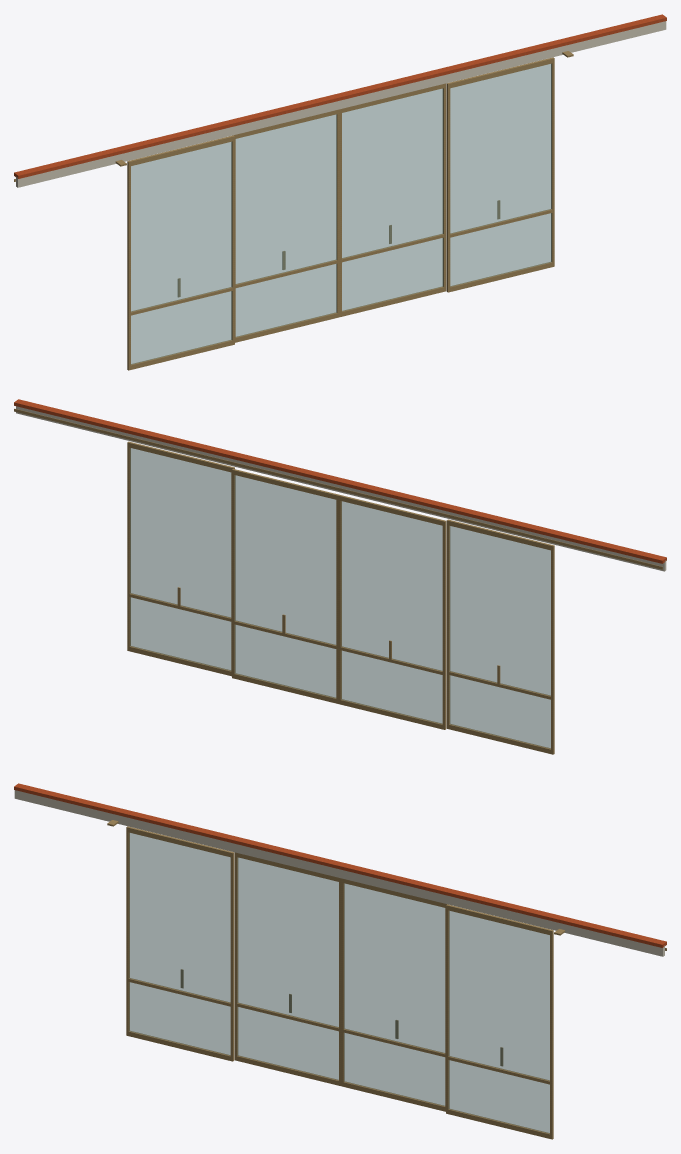
File: maker_foyer_8240mm_r001.glb
3 renders of one model, top to bottom at view 1: azimuth 30°, elevation 25°; view 2: azimuth 150°, elevation 25°; view 3: azimuth 330°, elevation 25°, orthographic.
Parts seen in each view (by area): view 1: Panel_R0_glass, Panel_L1_glass, Panel_R1_glass, Panel_L0_glass, track_back, track_cap, Panel_R0_stile_left, Panel_R1_stile_right, Panel_L0_stile_left, Panel_R0_stile_right, Panel_L0_stile_right, Panel_L1_stile_right (+7 smaller); view 2: Panel_R1_glass, Panel_R0_glass, Panel_L1_glass, Panel_L0_glass, track_cap, track_back, track_brass, Panel_L1_stile_left, Panel_L0_stile_right, Panel_L0_stile_left, Panel_L1_stile_right, Panel_R0_stile_right (+10 smaller); view 3: Panel_L0_glass, Panel_L1_glass, Panel_R1_glass, Panel_R0_glass, track_back, track_cap, Panel_L0_stile_right, Panel_L1_stile_left, Panel_R0_stile_right, Panel_L0_stile_left, Panel_R0_stile_left, Panel_R1_stile_left (+7 smaller).
Boxes of the visible parts, bbox=[...] form: Panel_R0_glass: bbox=[450, 64, 551, 286]; Panel_L1_glass: bbox=[235, 114, 336, 337]; Panel_R1_glass: bbox=[342, 88, 443, 311]; Panel_L0_glass: bbox=[131, 141, 232, 364]; track_back: bbox=[16, 21, 666, 187]; track_cap: bbox=[14, 14, 666, 178]; Panel_R0_stile_left: bbox=[446, 83, 450, 292]; Panel_R1_stile_right: bbox=[442, 83, 446, 291]; Panel_L0_stile_left: bbox=[127, 160, 130, 370]; Panel_R0_stile_right: bbox=[551, 57, 554, 266]; Panel_L0_stile_right: bbox=[231, 135, 234, 344]; Panel_L1_stile_right: bbox=[336, 109, 339, 317]; Panel_R1_glass: bbox=[234, 475, 336, 698]; Panel_R0_glass: bbox=[130, 448, 231, 670]; Panel_L1_glass: bbox=[341, 501, 442, 724]; Panel_L0_glass: bbox=[449, 526, 550, 748]; track_cap: bbox=[14, 399, 666, 563]; track_back: bbox=[16, 406, 666, 571]; track_brass: bbox=[14, 408, 662, 569]; Panel_L1_stile_left: bbox=[442, 520, 446, 729]; Panel_L0_stile_right: bbox=[446, 519, 450, 729]; Panel_L0_stile_left: bbox=[551, 545, 554, 754]; Panel_L1_stile_right: bbox=[338, 495, 341, 704]; Panel_R0_stile_right: bbox=[127, 441, 130, 651]; Panel_L0_glass: bbox=[129, 833, 230, 1055]; Panel_L1_glass: bbox=[237, 857, 338, 1080]; Panel_R1_glass: bbox=[344, 883, 445, 1106]; Panel_R0_glass: bbox=[448, 911, 549, 1133]; track_back: bbox=[14, 790, 664, 956]; track_cap: bbox=[14, 783, 666, 947]; Panel_L0_stile_right: bbox=[230, 852, 234, 1061]; Panel_L1_stile_left: bbox=[234, 852, 238, 1060]; Panel_R0_stile_right: bbox=[550, 929, 553, 1139]; Panel_L0_stile_left: bbox=[126, 826, 129, 1035]; Panel_R0_stile_left: bbox=[446, 904, 449, 1113]; Panel_R1_stile_left: bbox=[341, 878, 344, 1086].
Size of the model in its own units: 12.54 by 4.11 by 0.345.
Materials: 4 (3 with a texture image).
